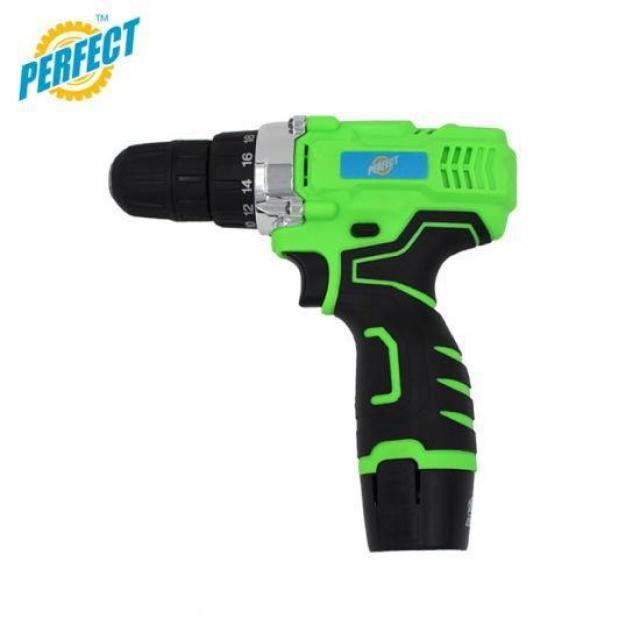drill: (107, 113, 520, 554)
